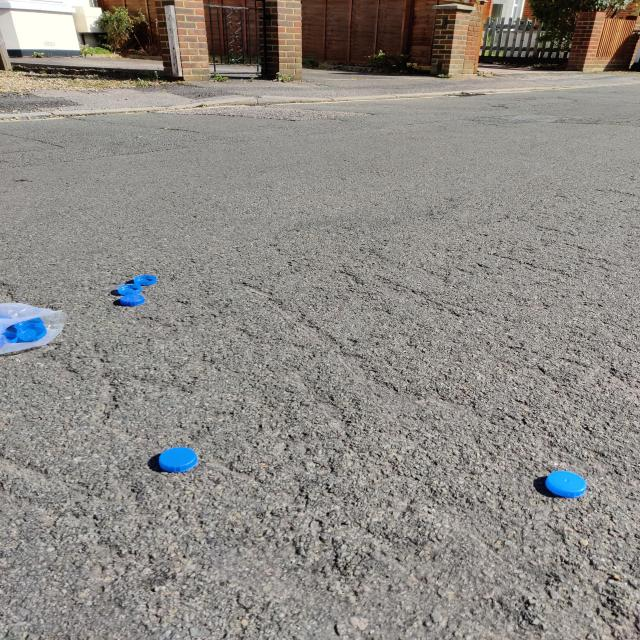litter: (0, 302, 67, 355), (545, 471, 587, 496), (160, 447, 197, 472), (16, 324, 47, 341), (15, 317, 44, 331), (119, 294, 145, 307), (134, 275, 158, 286), (118, 284, 141, 295), (0, 332, 19, 344)
